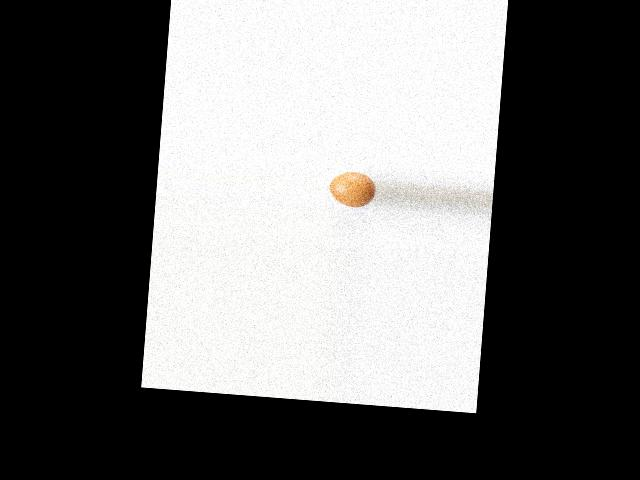egg: (328, 170, 376, 209)
